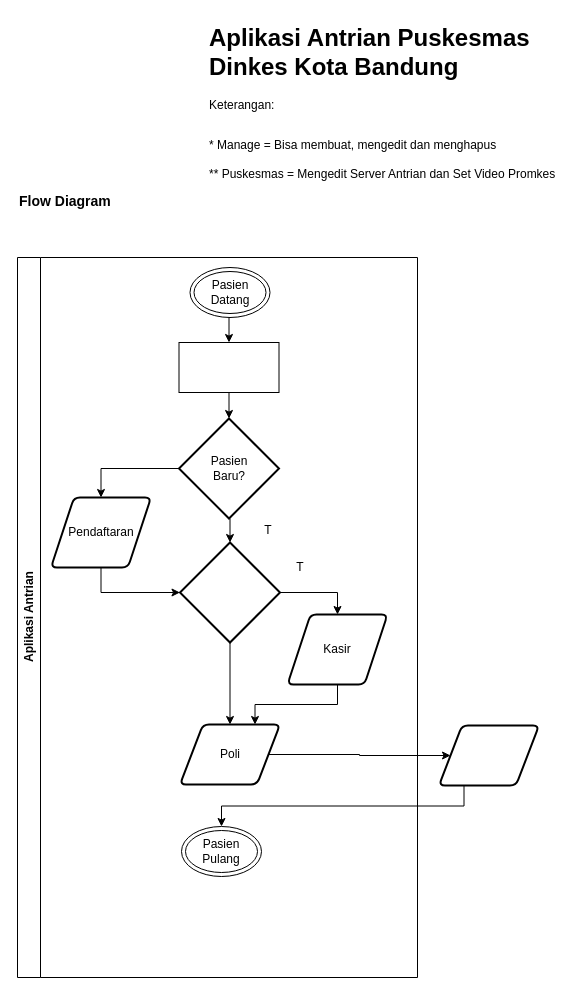
Image size: 585x995. Some labels were removed from this diagram. Here are the shapes that lost their labels. From the top down, the centre of each, then its label:
At point (228, 367): "Cetak Antrian".
At point (229, 592): "Pasien JKN ?".
At point (489, 755): "Apotek".
